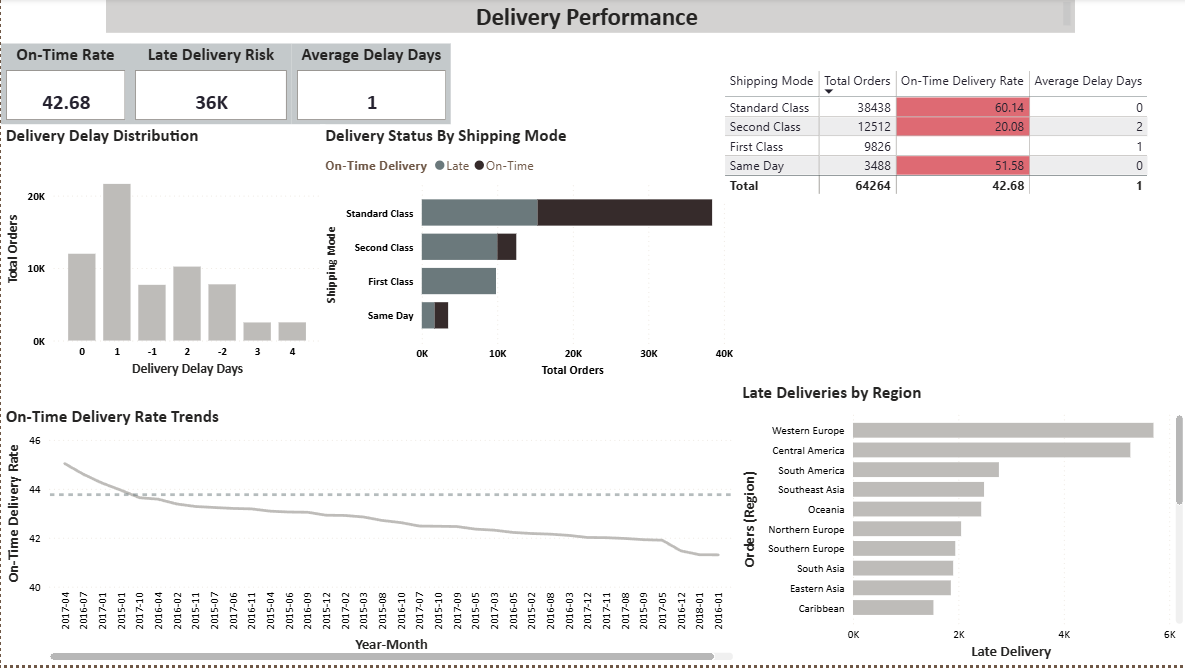

The dashboard page shown, as its layout file describes it:
{"tool":"powerbi","page":{"name":"Delivery Performance","canvas":[1280,720],"ordinal":1},"visuals":[{"type":"textbox","box":[113.3,0,1046,38.9],"z":0},{"type":"cardVisual","title":"On-Time Rate","fields":{"Data":["Calendar.On-Time Delivery Rate"]},"box":[0,50.2,139.3,87.4],"z":1000},{"type":"cardVisual","title":"Late Delivery Risk","fields":{"Data":["Sum(Orders.Late Delivery Risk)"]},"box":[139.3,50.2,174.9,87.4],"z":2000},{"type":"cardVisual","title":"Average Delay Days","fields":{"Data":["Calendar.Average Delay Days"]},"box":[314.1,50.2,171.6,87.4],"z":3000},{"type":"clusteredBarChart","title":"Late Deliveries by Region","fields":{"Category":["Orders.Order Region"],"Y":["Calendar.Late Delivery Count"]},"box":[795,414.5,485.8,306],"z":4000},{"type":"barChart","title":"Delivery Status By Shipping Mode","fields":{"Category":["Orders.Shipping Mode"],"Y":["Calendar.Total Orders"],"Series":["Orders.On-Time Delivery"]},"box":[344.9,137.6,450.1,276.9],"z":5000},{"type":"clusteredColumnChart","title":"Delivery Delay Distribution","fields":{"Category":["Orders.Delivery Delay Days"],"Y":["Calendar.Total Orders"]},"box":[0,137.6,349.8,276.9],"z":6000},{"type":"lineChart","title":"On-Time Delivery Rate Trends","fields":{"Category":["Calendar.Year-Month"],"Y":["Calendar.On-Time Delivery Rate"]},"box":[0,440.4,795,280.1],"z":7000},{"type":"tableEx","fields":{"Values":["Orders.Shipping Mode","Calendar.Total Orders","Calendar.On-Time Delivery Rate","Calendar.Average Delay Days"]},"box":[775.6,74.5,505.2,145.7],"z":8000}]}

Visuals, with their boxes in screenshot pixels (x1, y1, x2, y2), scaled from the page's 1280x720 canvas onto the 1185x671 screenshot:
textbox: 105 0 1073 36
"On-Time Rate" cardVisual: 0 47 129 128
"Late Delivery Risk" cardVisual: 129 47 291 128
"Average Delay Days" cardVisual: 291 47 450 128
"Late Deliveries by Region" clusteredBarChart: 736 386 1184 670
"Delivery Status By Shipping Mode" barChart: 319 128 736 386
"Delivery Delay Distribution" clusteredColumnChart: 0 128 324 386
"On-Time Delivery Rate Trends" lineChart: 0 410 736 670
tableEx - Orders.Shipping Mode x Calendar.Total Orders: 718 69 1184 205
